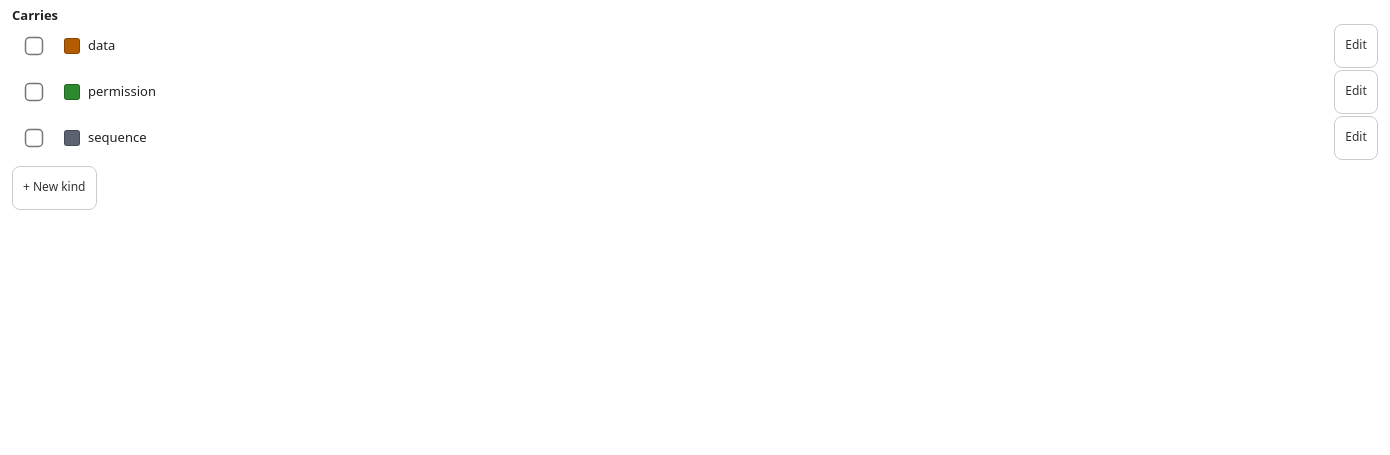
Test: the field › names each colour for anyone who cannot see the swatch
The image size is (1390, 455).
Click the button with test id "kind-add": (54, 188) [12,166,96,210]
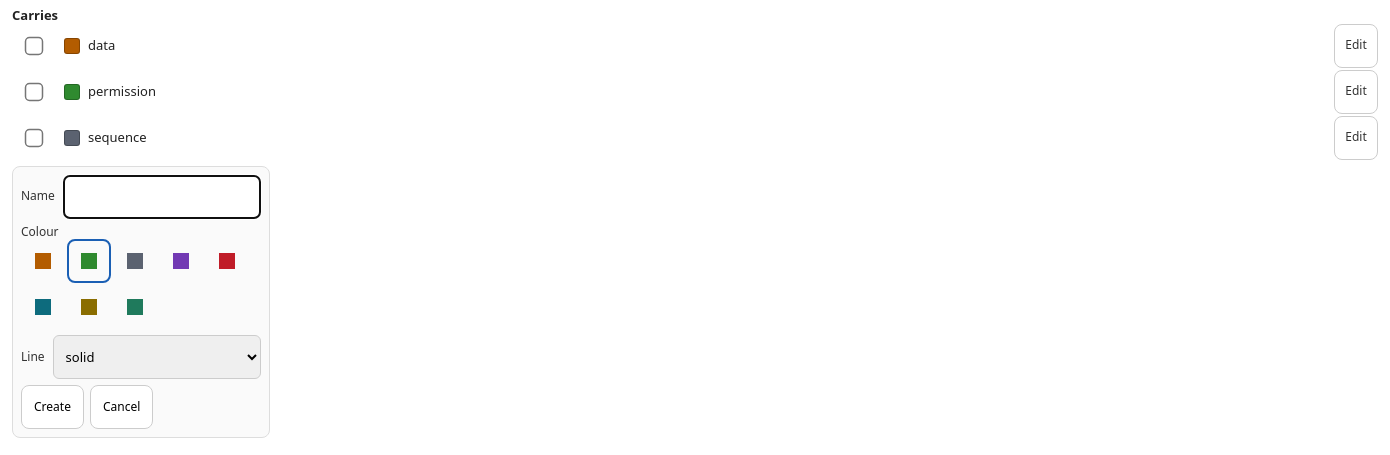
Result: the 4th radio button named "violet" is shown at [159,239,203,283]
